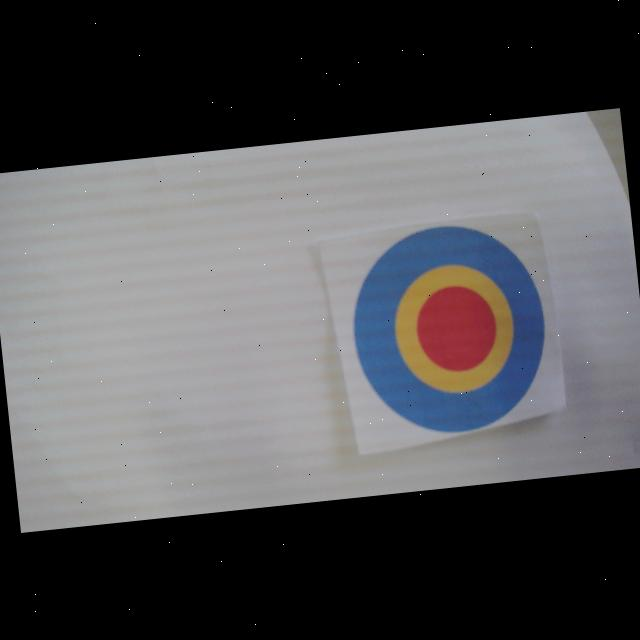COGNITIVE: (342, 215, 556, 442)
